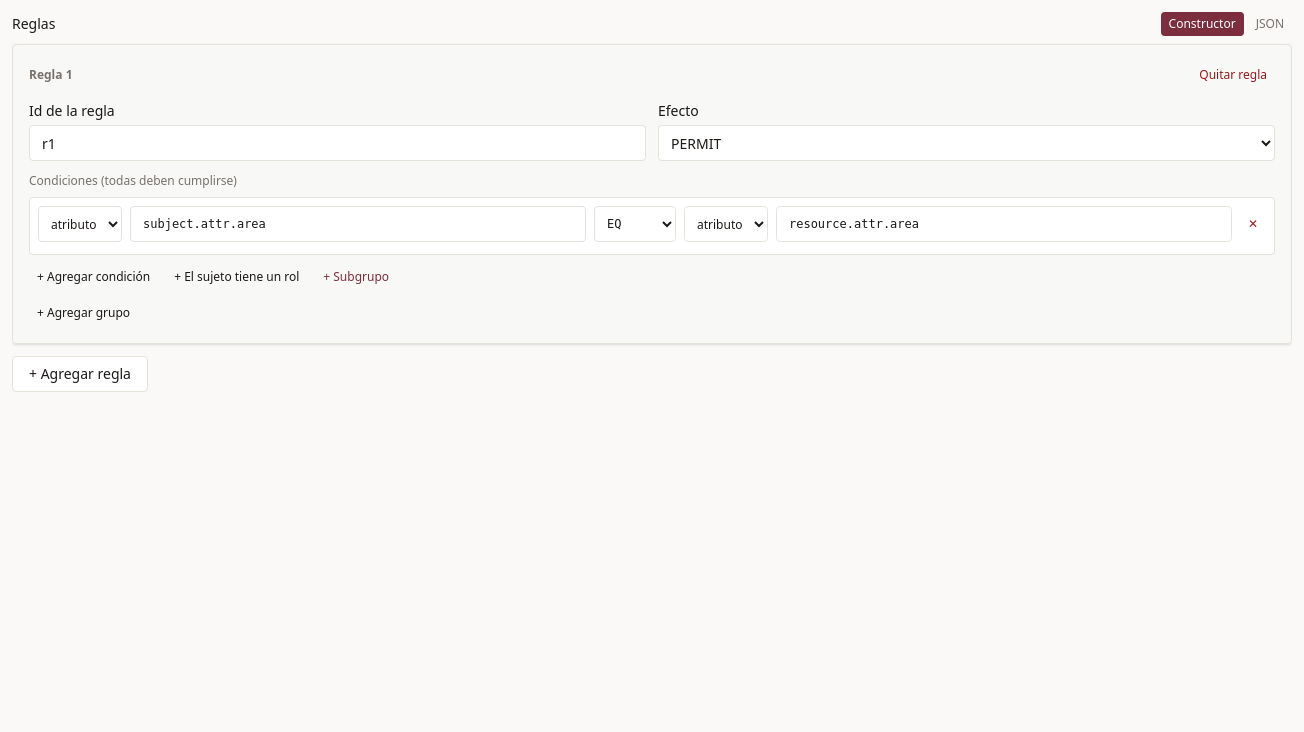
Test: RuleBuilder — interaction › keeps a newly added (empty) group instead of collapsing it away
Expected: the text "Sin condiciones" is not shown
Click the button "+ Agregar grupo".
click(84, 313)  # box [29,299,138,327]
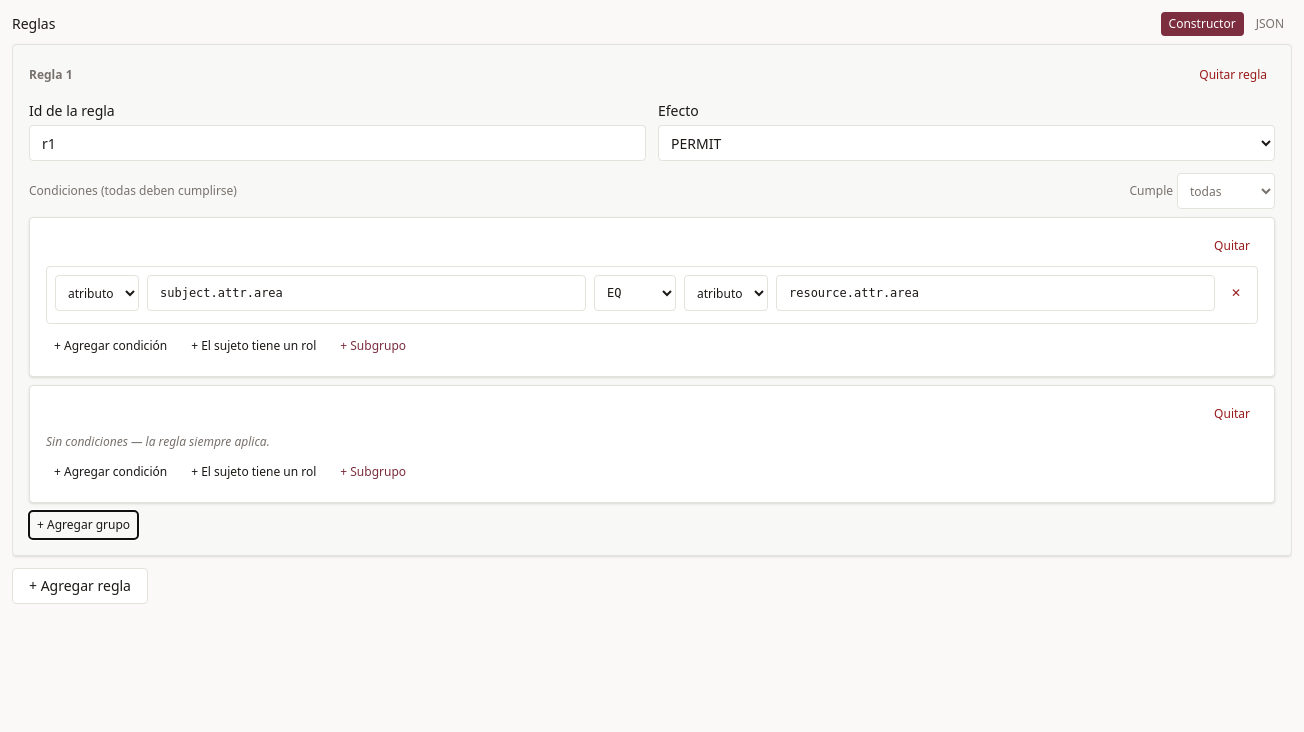
Now the text "Sin condiciones — la regla siempre aplica." is shown, box [46,433,270,450]
